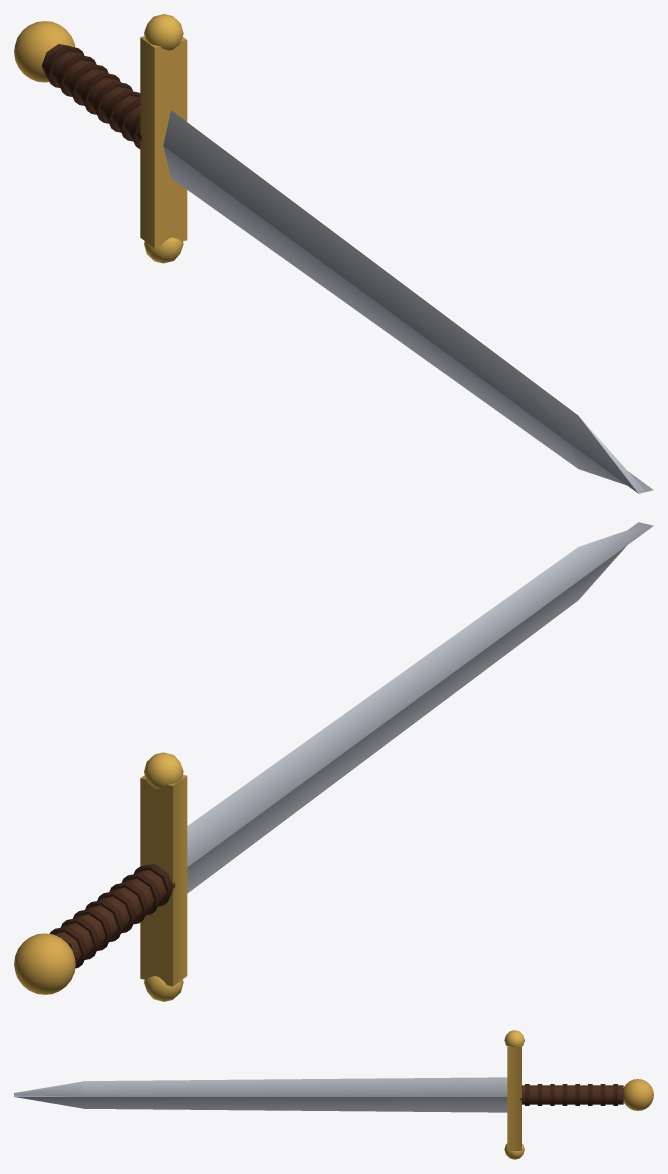
The model's file is sword_icon.glb.
3 renders of one model, top to bottom at view 1: azimuth 30°, elevation 25°; view 2: azimuth 150°, elevation 25°; view 3: azimuth 270°, elevation 25°, orthographic. The views are drawn at different scales.
Parts seen in each view (by area): view 1: sword_icon; view 2: sword_icon; view 3: sword_icon.
Part boxes in pixels (<box>): sword_icon: <box>14,14,653,493</box>; sword_icon: <box>14,522,653,1001</box>; sword_icon: <box>14,1030,653,1159</box>.
Bounding box in the file's own units: 0.056 × 0.246 × 1.12.
